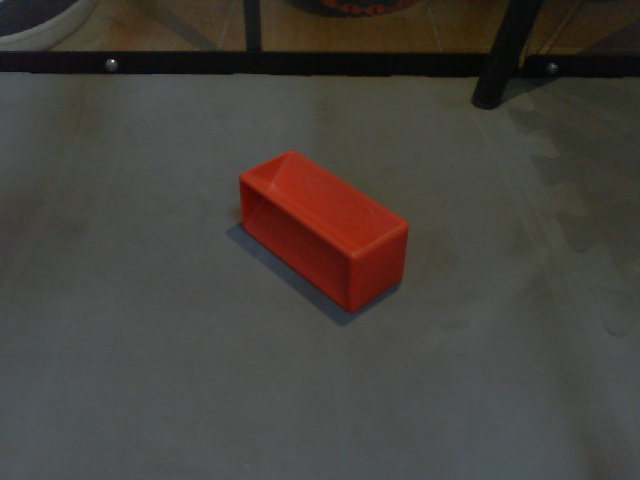RedSample: (238, 146, 410, 315)
